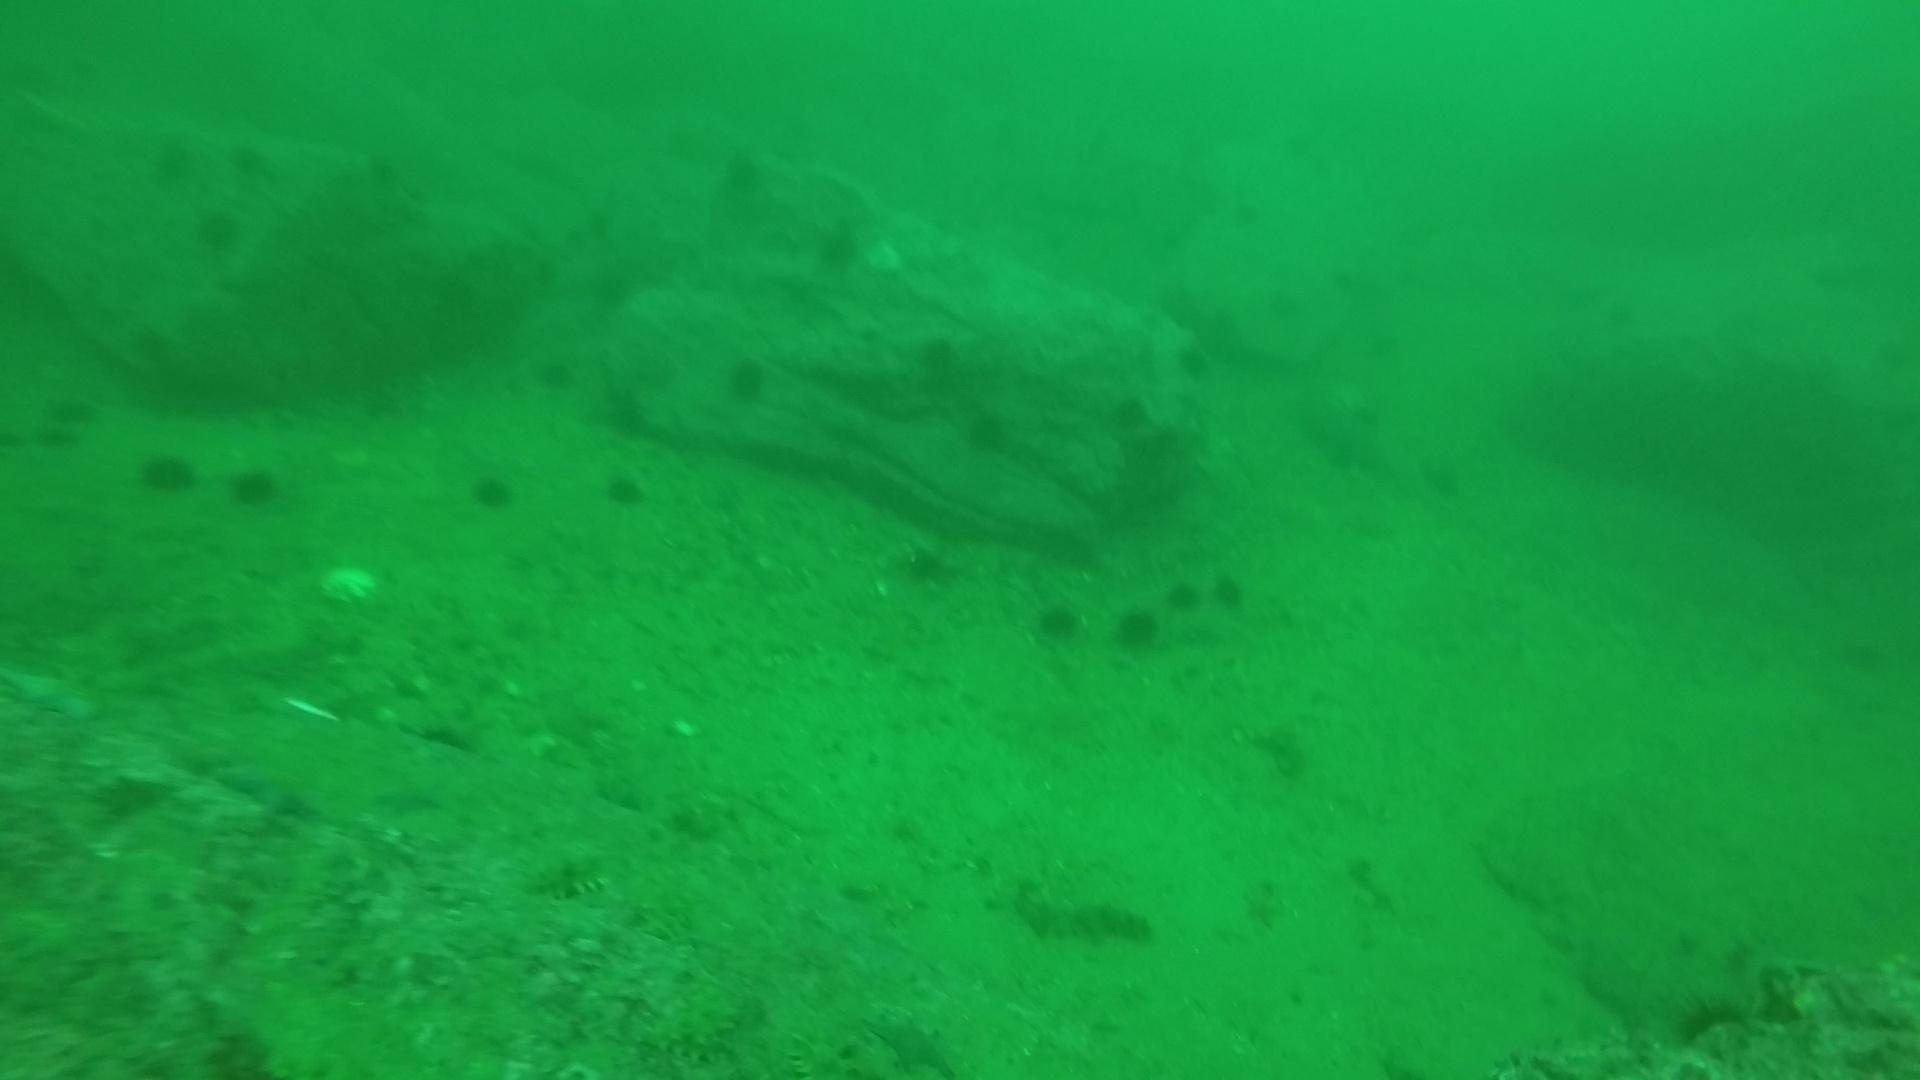echinus: (200, 132, 269, 189), (705, 142, 774, 199), (1348, 330, 1416, 386), (913, 316, 980, 373), (518, 345, 585, 402), (36, 380, 103, 436), (1098, 382, 1166, 439), (1149, 342, 1216, 398), (945, 406, 1014, 462), (18, 411, 87, 467), (119, 311, 187, 367), (1133, 291, 1201, 347), (1254, 284, 1323, 339), (1199, 294, 1267, 349), (1311, 247, 1379, 302), (891, 538, 959, 593), (129, 133, 196, 189), (135, 444, 200, 500), (808, 215, 866, 274), (717, 351, 774, 407), (1109, 601, 1166, 657), (190, 203, 245, 258), (225, 459, 284, 512), (1029, 596, 1085, 647), (465, 465, 520, 516), (1166, 571, 1222, 617), (600, 465, 649, 513), (1208, 567, 1249, 615)
holothurian: (630, 971, 753, 1063), (1014, 880, 1154, 949), (518, 841, 618, 909), (783, 1036, 877, 1080)
starfish: (211, 752, 324, 824), (1, 655, 102, 724), (862, 1007, 961, 1076), (369, 770, 454, 820)
